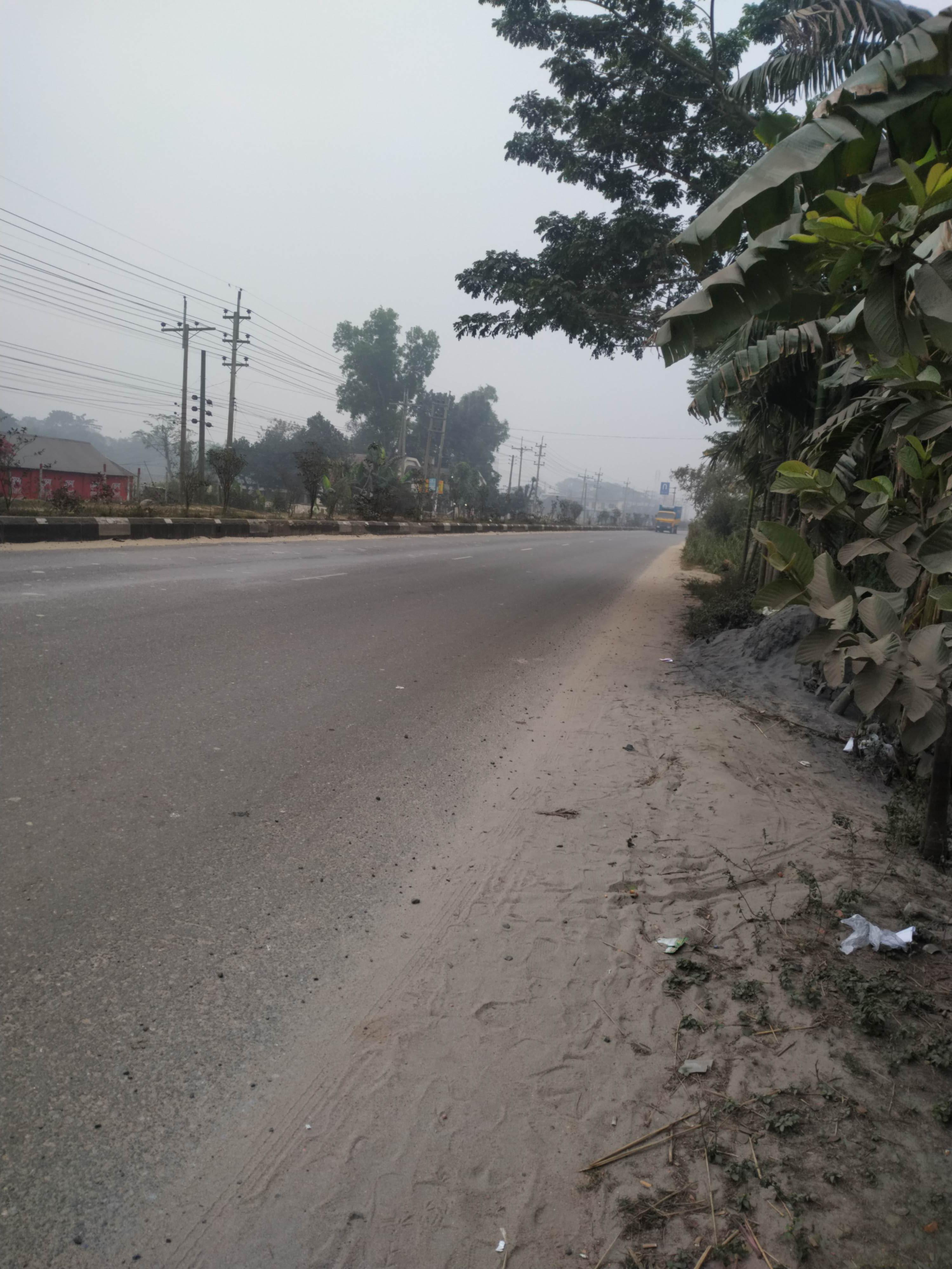Truck: (652, 500, 704, 538)
